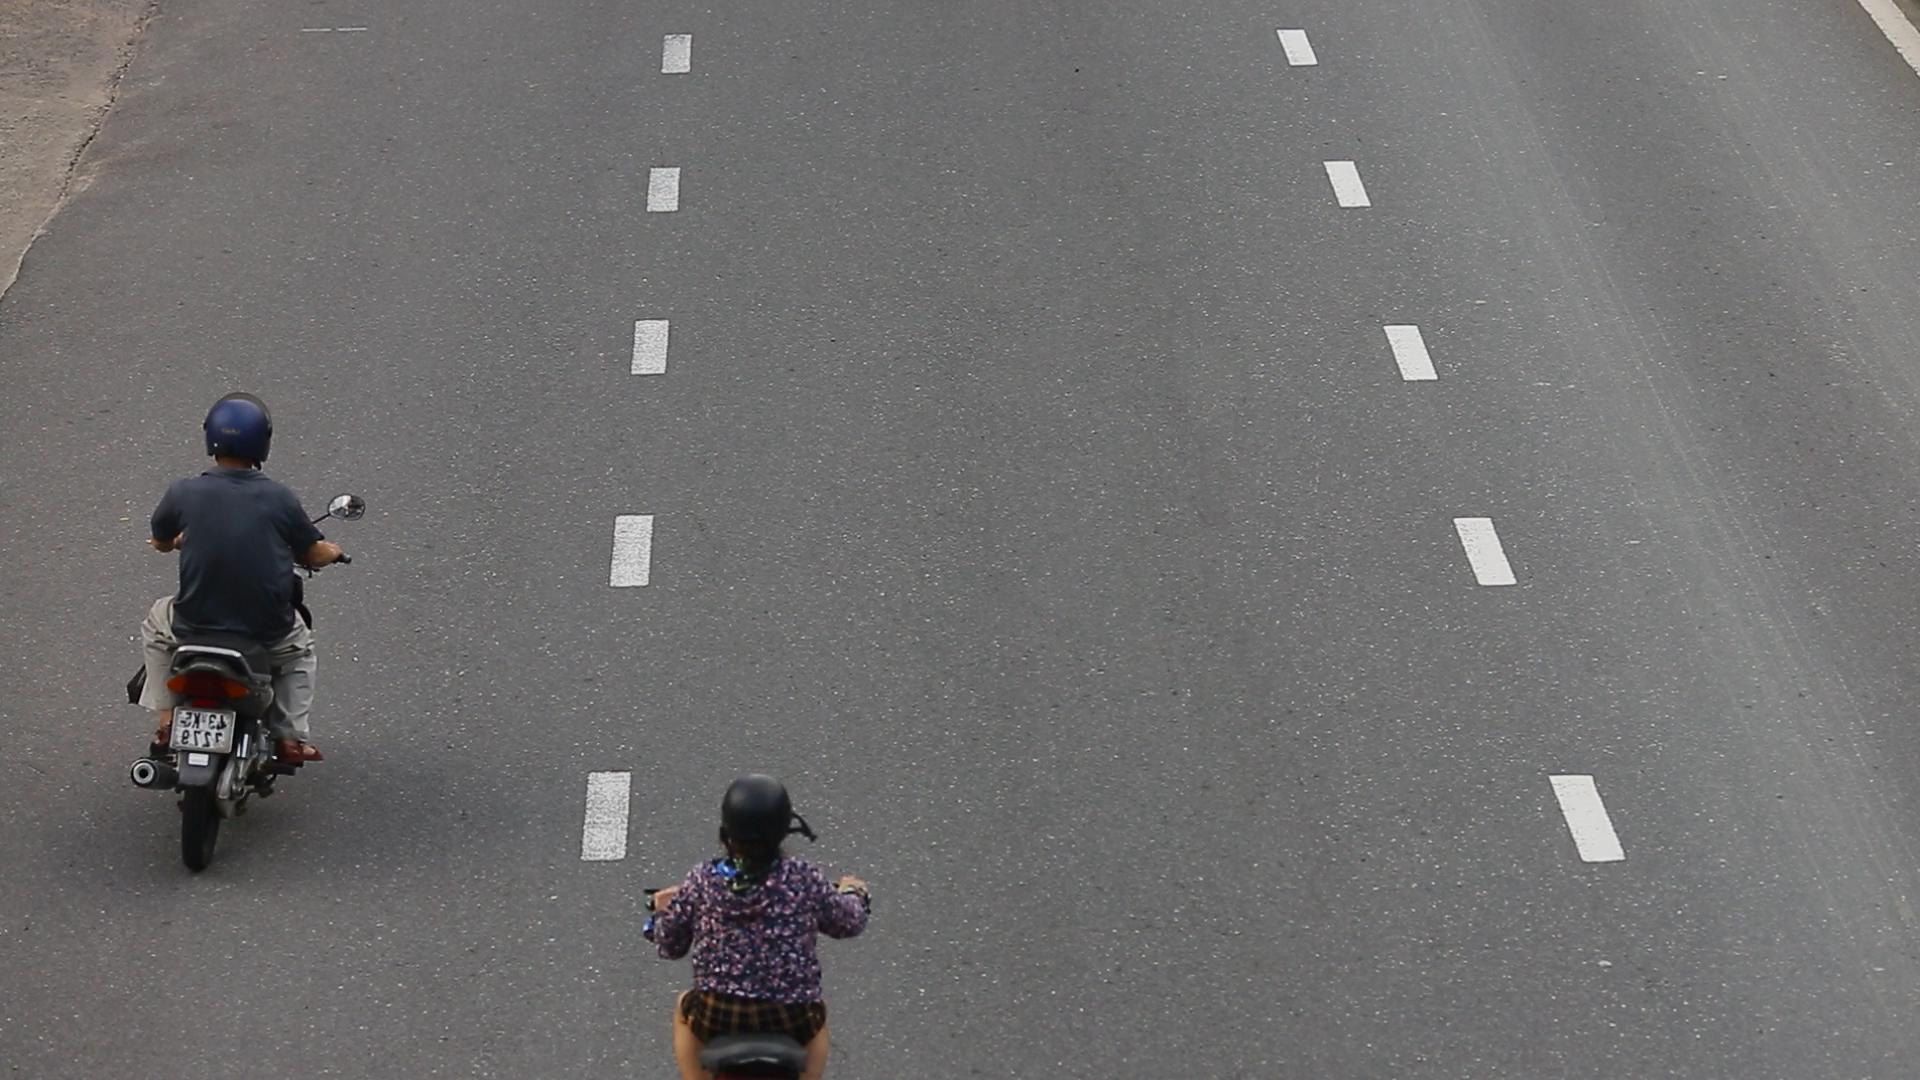motobike: (103, 373, 359, 884)
